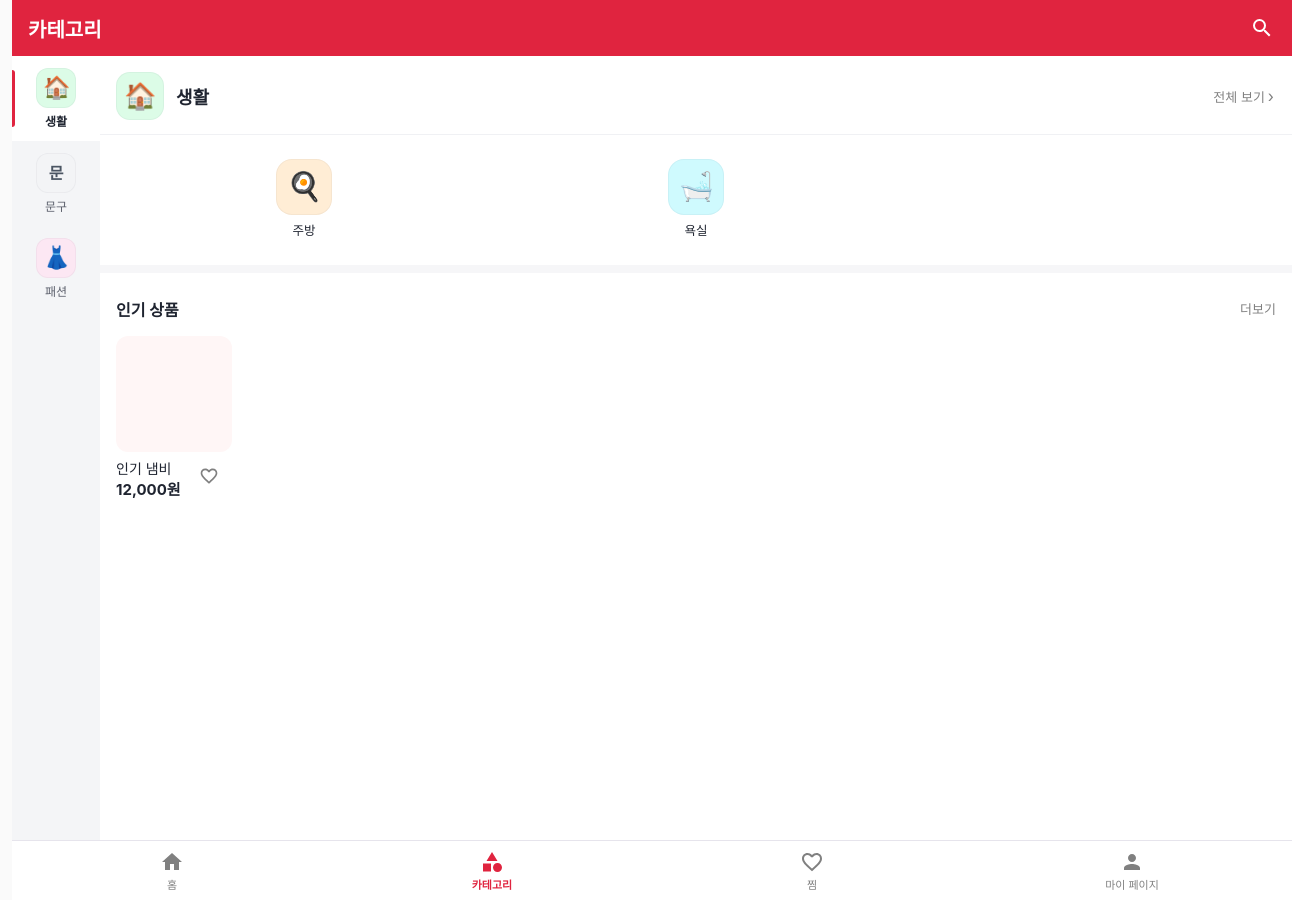
Test: CategoryPage › opens a sub-category product list from the grid
Click the link "🛁 욕실". click: (696, 198)
box: [668,159,724,238]
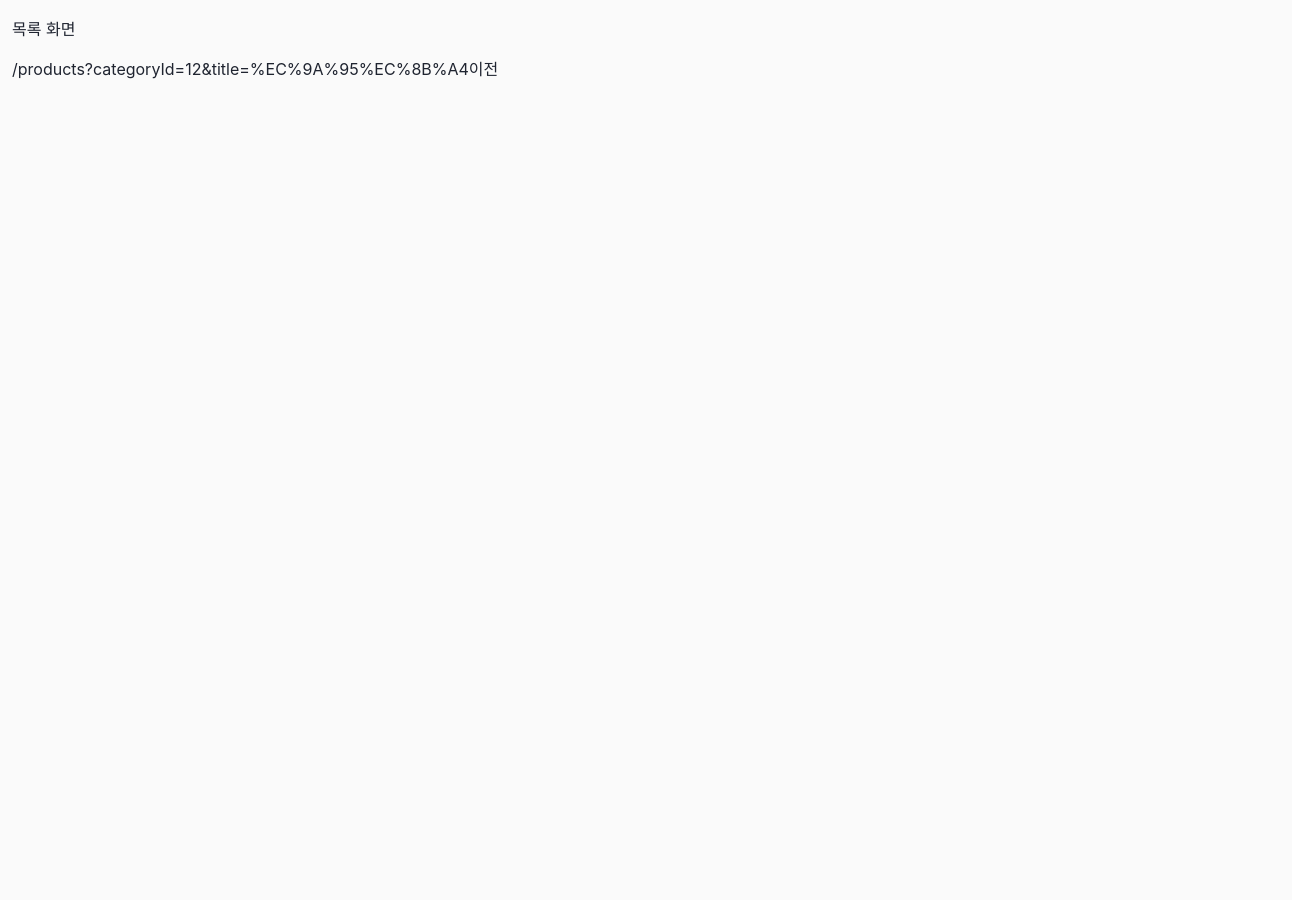
Now the text "목록 화면" is shown, box [12,19,75,39]
Now the text with test id "location" reads "/products?categoryId=12&title=%EC%9A%95%EC%8B%A4", box [12,59,469,79]
